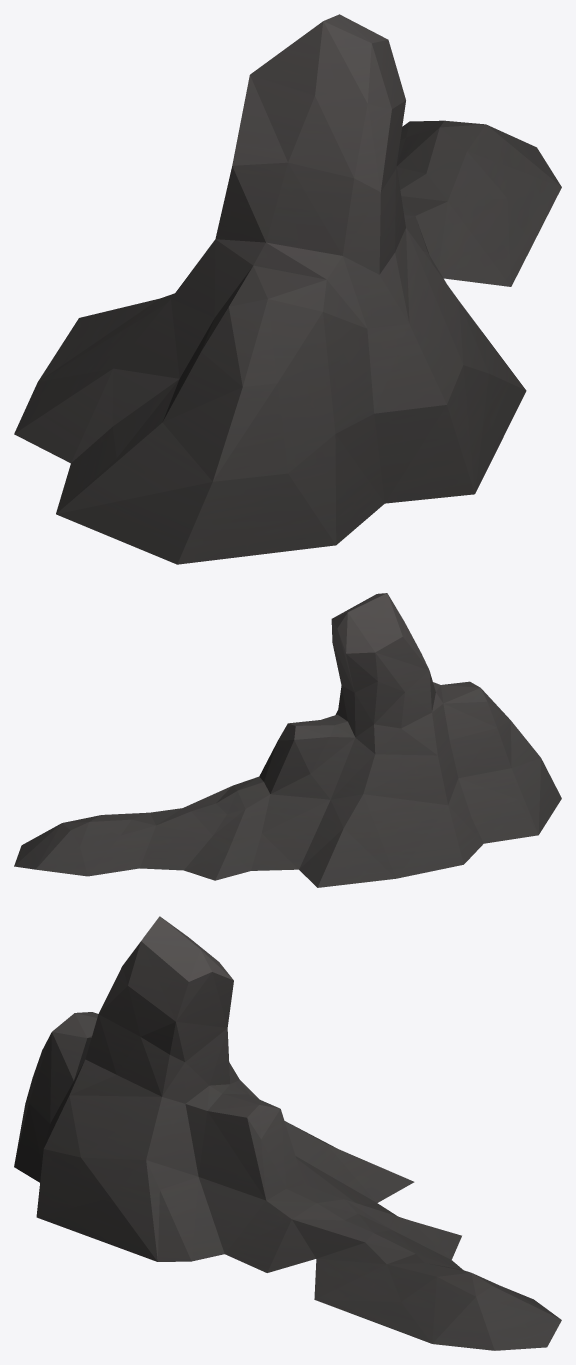
Rendered from ZLP_Rock_D_14.FBX.
The picture shows the model from 3 angles, top to bottom: view 1: azimuth 30°, elevation 25°; view 2: azimuth 150°, elevation 25°; view 3: azimuth 270°, elevation 25°; orthographic projection. The views are drawn at different scales.
Visible parts, largest first — view 1: ZLP_Rock_D_14; view 2: ZLP_Rock_D_14; view 3: ZLP_Rock_D_14.
Part boxes in pixels (x1,y1,x2,y2): ZLP_Rock_D_14: (14, 14, 561, 564); ZLP_Rock_D_14: (14, 593, 561, 887); ZLP_Rock_D_14: (14, 916, 561, 1350).
Bounding box in the file's own units: 282 × 155 × 268.
